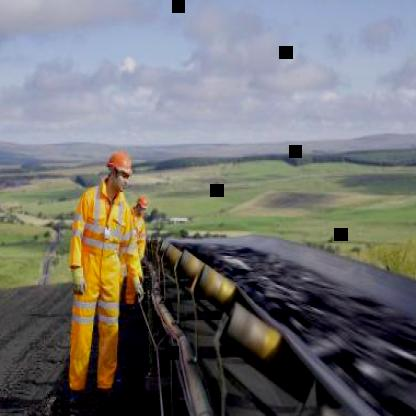helmet: (102, 147, 134, 193), (135, 195, 149, 215)
